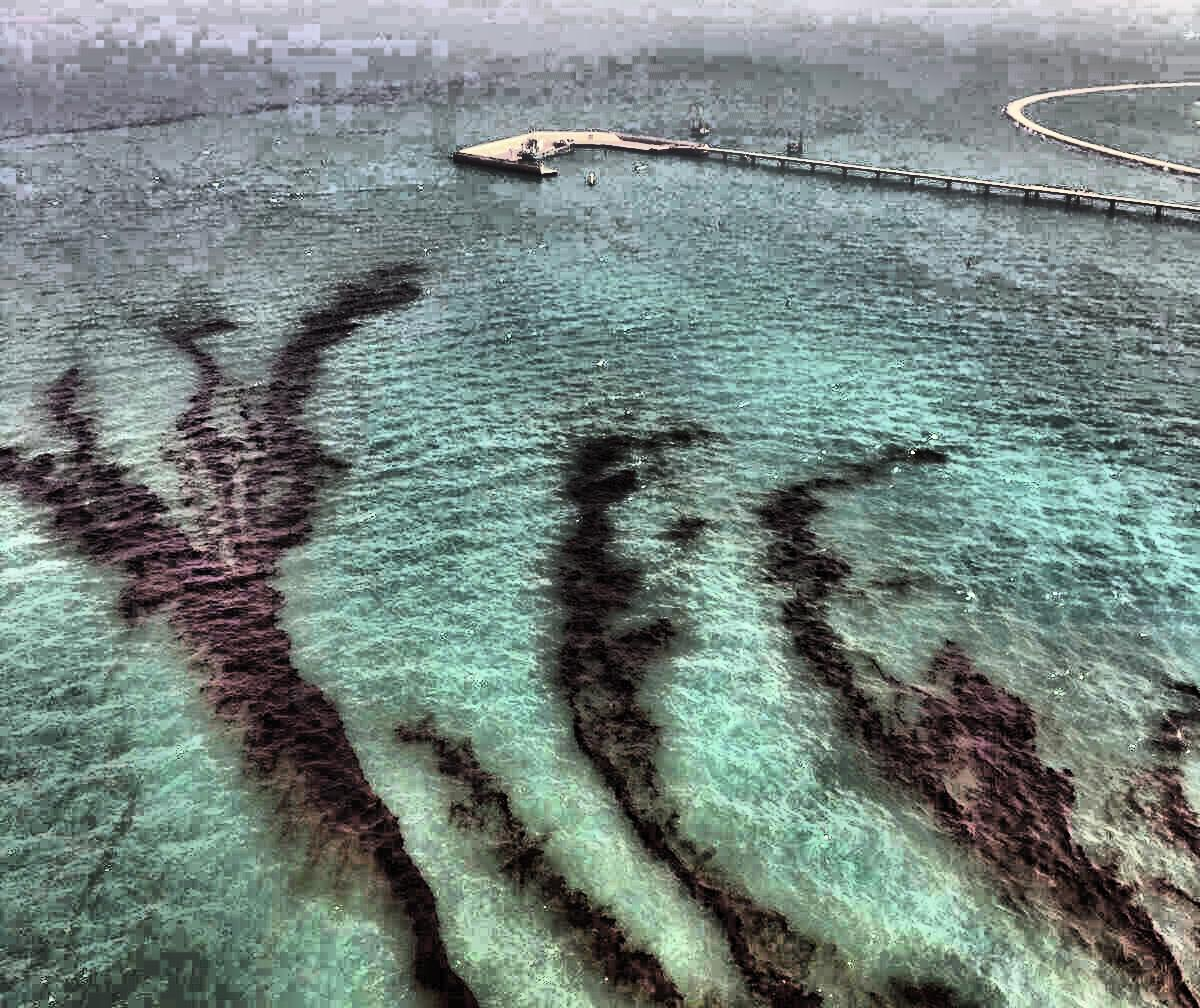truecolor: (0, 268, 476, 1008), (763, 480, 1200, 1006), (559, 437, 861, 1008), (396, 718, 684, 1008)
